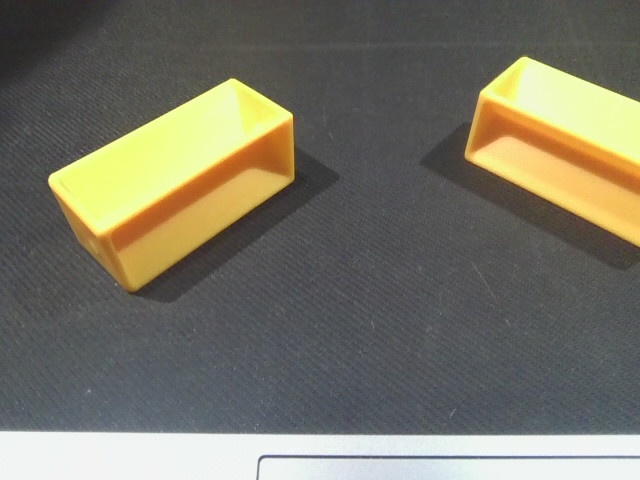YellowSample: (43, 73, 308, 294), (460, 45, 640, 252)
